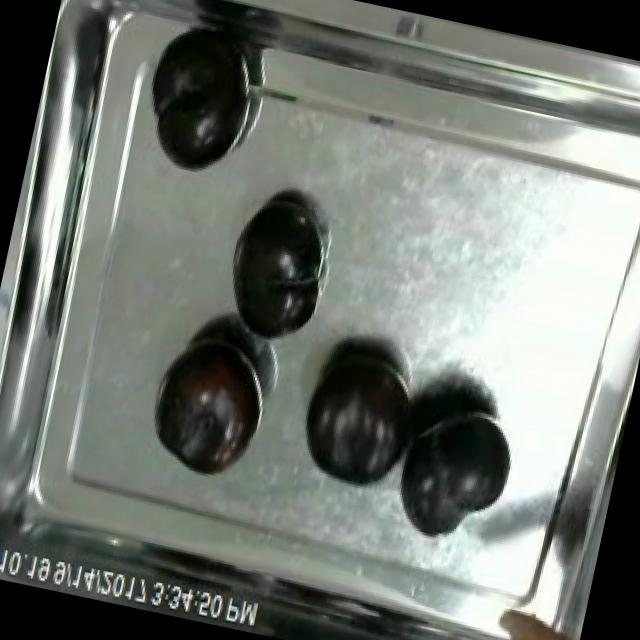Fruit: (380, 388, 528, 560), (128, 15, 270, 188), (286, 332, 427, 501), (212, 185, 336, 352), (142, 328, 273, 486)
